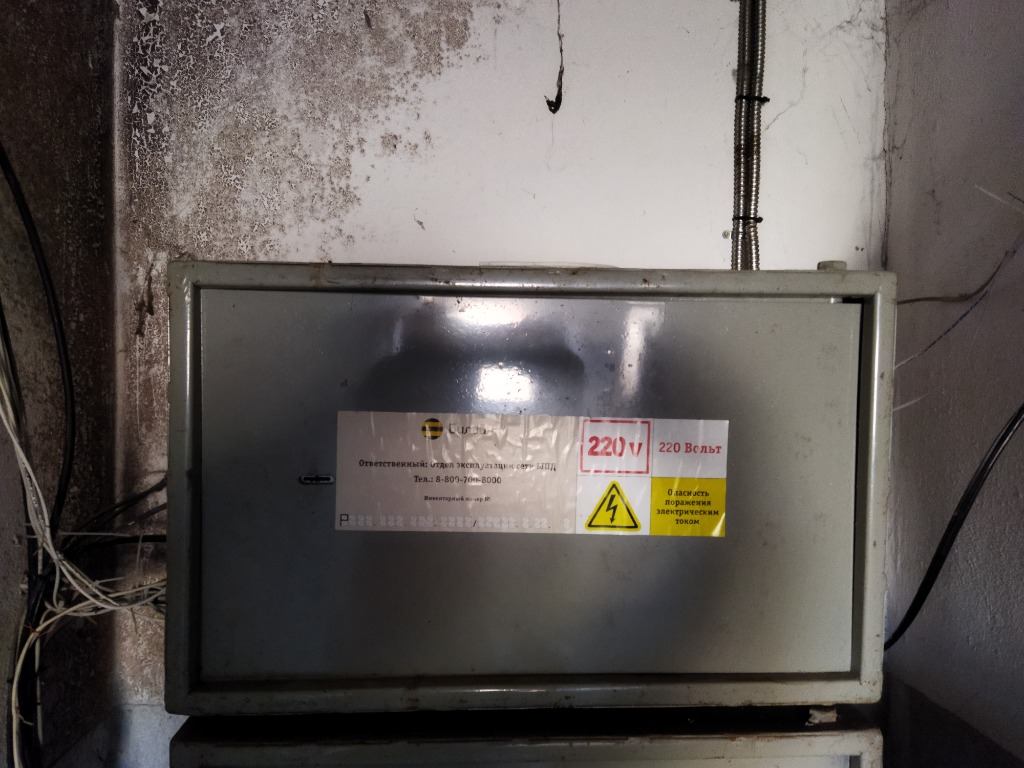e2-6u: (151, 259, 907, 724)
